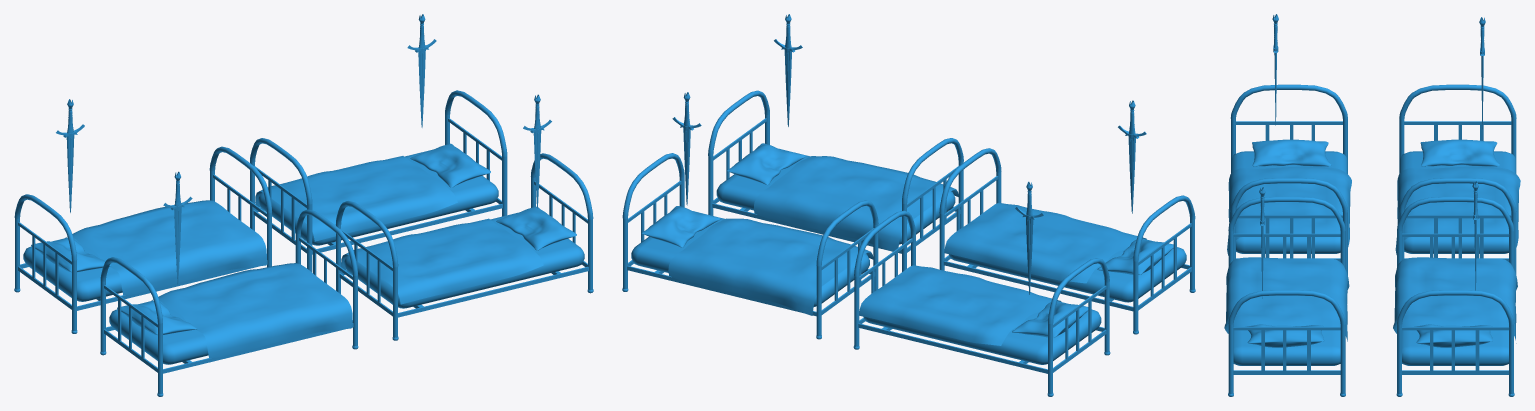
Rendered from bed.glb.
The picture shows the model from 3 angles, left to right: view 1: azimuth 30°, elevation 25°; view 2: azimuth 150°, elevation 25°; view 3: azimuth 270°, elevation 25°; orthographic projection.
Visible parts, largest first — view 1: Bed.003, Bed.005, Bed.002, Bed, Tops_low.004, Tops_low.002, Tops_low.001, Tops_low.003; view 2: Bed, Bed.005, Bed.002, Bed.003, Tops_low.003, Tops_low.002, Tops_low.004, Tops_low.001; view 3: Bed.002, Bed, Bed.005, Bed.003, Tops_low.004, Tops_low.002, Tops_low.001, Tops_low.003.
Part boxes in pixels (x1=…): Bed.003: x1=100, y1=209, x2=358, y2=396; Bed.005: x1=14, y1=146, x2=271, y2=333; Bed.002: x1=335, y1=153, x2=593, y2=340; Bed: x1=250, y1=90, x2=507, y2=272; Tops_low.004: x1=56, y1=99, x2=84, y2=212; Tops_low.002: x1=523, y1=94, x2=551, y2=208; Tops_low.001: x1=407, y1=14, x2=436, y2=127; Tops_low.003: x1=163, y1=171, x2=192, y2=285; Bed: x1=622, y1=153, x2=878, y2=339; Bed.005: x1=853, y1=210, x2=1110, y2=396; Bed.002: x1=708, y1=90, x2=963, y2=271; Bed.003: x1=939, y1=148, x2=1195, y2=334; Tops_low.003: x1=1118, y1=100, x2=1146, y2=213; Tops_low.002: x1=774, y1=14, x2=802, y2=126; Tops_low.004: x1=1015, y1=181, x2=1043, y2=294; Tops_low.001: x1=672, y1=92, x2=701, y2=205; Bed.002: x1=1224, y1=197, x2=1349, y2=396; Bed: x1=1393, y1=197, x2=1517, y2=396; Bed.005: x1=1395, y1=84, x2=1520, y2=273; Bed.003: x1=1227, y1=84, x2=1351, y2=274; Tops_low.004: x1=1479, y1=17, x2=1485, y2=128; Tops_low.002: x1=1259, y1=187, x2=1265, y2=298; Tops_low.001: x1=1472, y1=181, x2=1478, y2=290; Tops_low.003: x1=1272, y1=14, x2=1278, y2=125.
Size of the model in its own units: 4.6 by 2 by 2.77.
